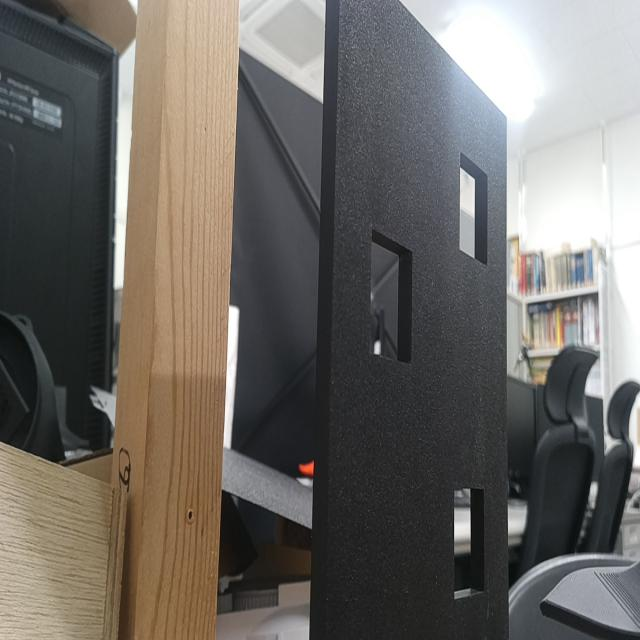Obstacle: (372, 229, 412, 360), (455, 485, 487, 601), (459, 154, 488, 263)
Wall: (327, 0, 509, 639)
